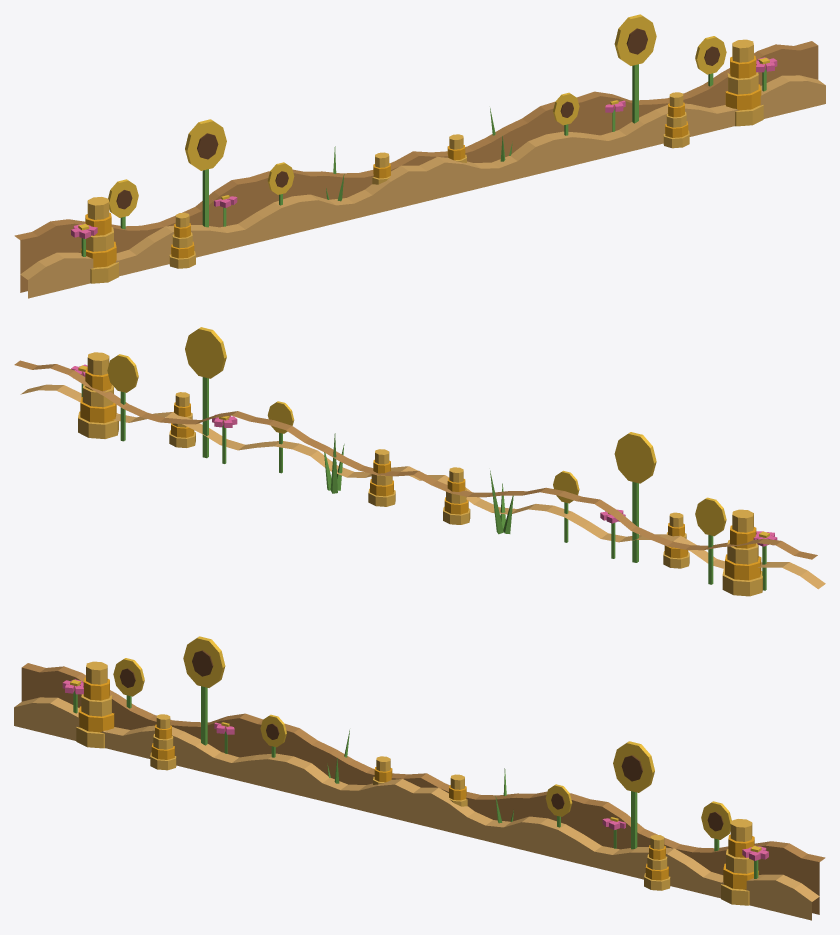
The model's file is backdrop_hive.glb.
3 renders of one model, top to bottom at view 1: azimuth 30°, elevation 25°; view 2: azimuth 150°, elevation 25°; view 3: azimuth 330°, elevation 25°, orthographic.
Parts seen in each view (by area): view 1: backdrop_hive; view 2: backdrop_hive; view 3: backdrop_hive.
Boxes of the visible parts, box(x1,y1,x2,y2) form: backdrop_hive: box(14, 14, 825, 298); backdrop_hive: box(14, 327, 825, 596); backdrop_hive: box(14, 636, 825, 920).
Size of the model in its own units: 260 by 40 by 14.
Materials: 1 (1 with a texture image).
